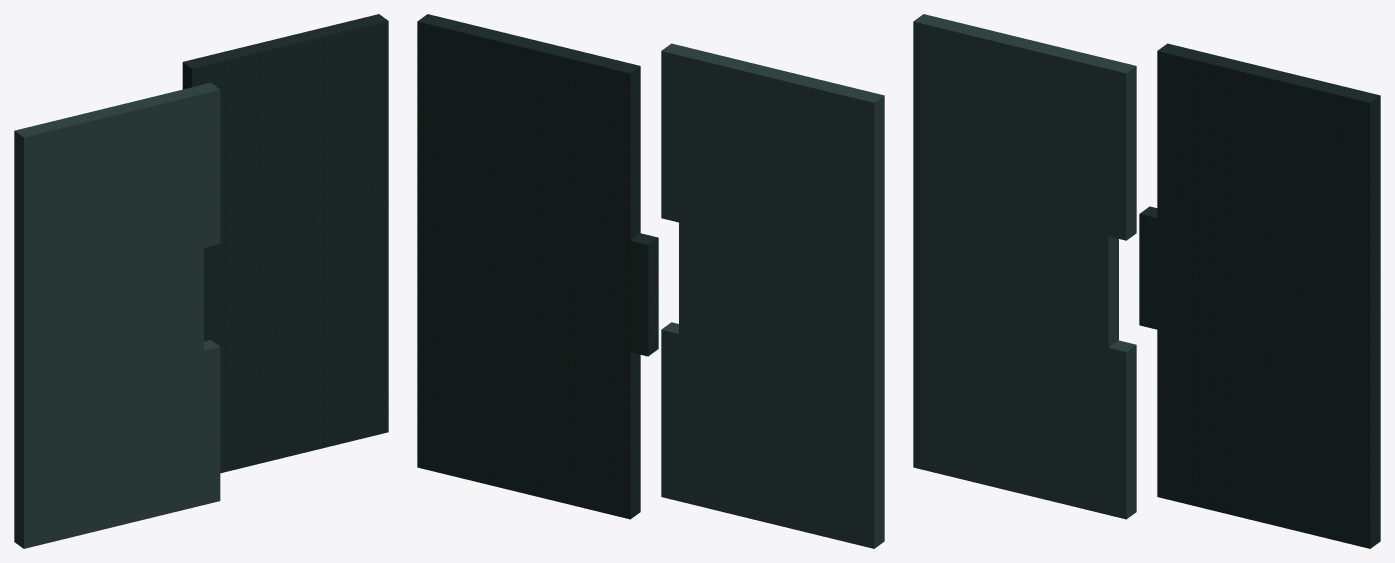
3 renders of one model, left to right at view 1: azimuth 30°, elevation 25°; view 2: azimuth 150°, elevation 25°; view 3: azimuth 330°, elevation 25°, orthographic. The views are drawn at different scales.
Bounding box in the file's own units: 2.4 × 2.4 × 0.4.
